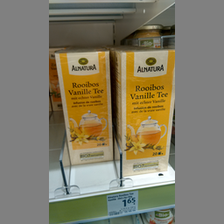tea: (113, 49, 174, 177), (55, 48, 114, 166)
